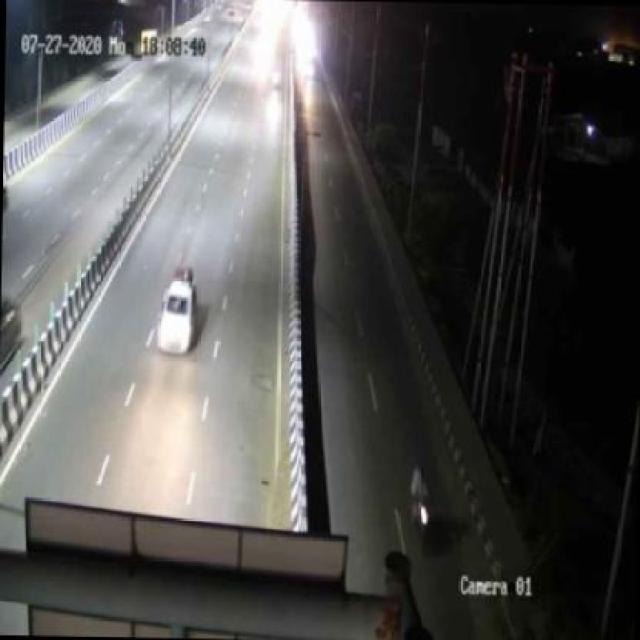car: (154, 263, 201, 362)
